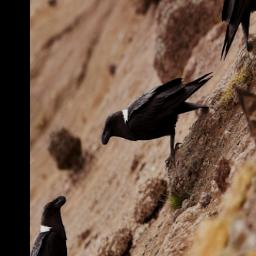Crow: (92, 24, 231, 204)
